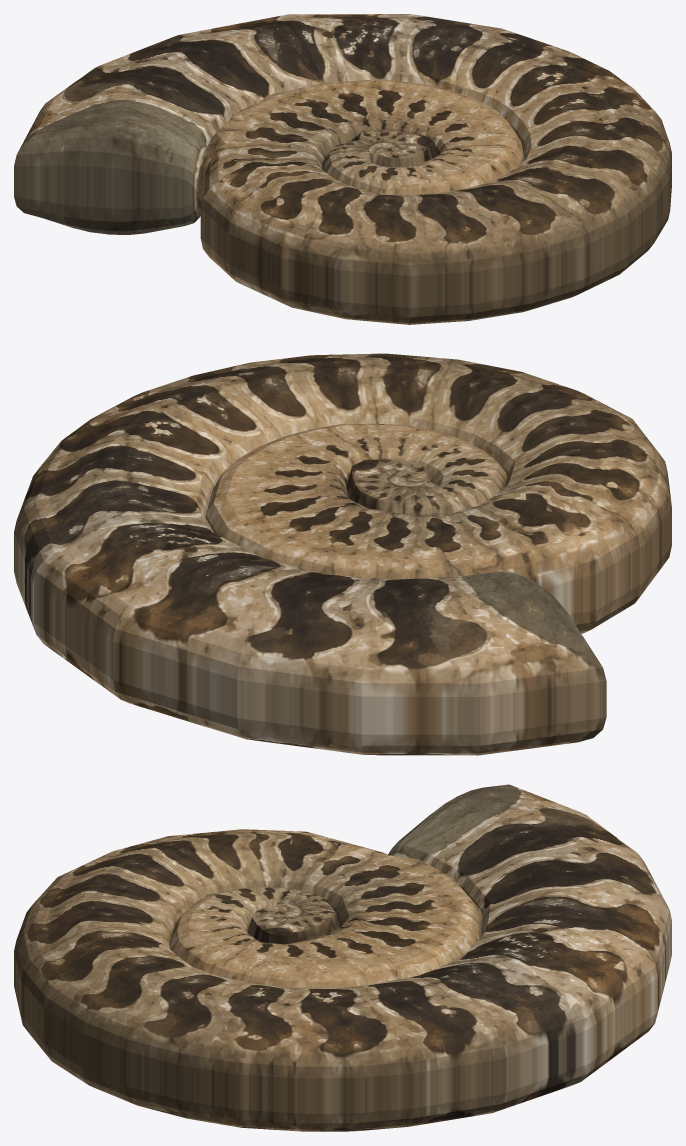
The model's file is Quenstedticeras.glb.
The picture shows the model from 3 angles, top to bottom: view 1: azimuth 30°, elevation 25°; view 2: azimuth 150°, elevation 25°; view 3: azimuth 270°, elevation 25°; orthographic projection. The views are drawn at different scales.
Parts seen in each view (by area): view 1: Quenstedticeras; view 2: Quenstedticeras; view 3: Quenstedticeras.
Part boxes in pixels (bbox=[...]): Quenstedticeras: bbox=[14, 14, 671, 324]; Quenstedticeras: bbox=[14, 353, 671, 755]; Quenstedticeras: bbox=[14, 784, 671, 1131].
Size of the model in its own units: 1.63 by 0.3329 by 1.62.
1 material, 1 textured.
